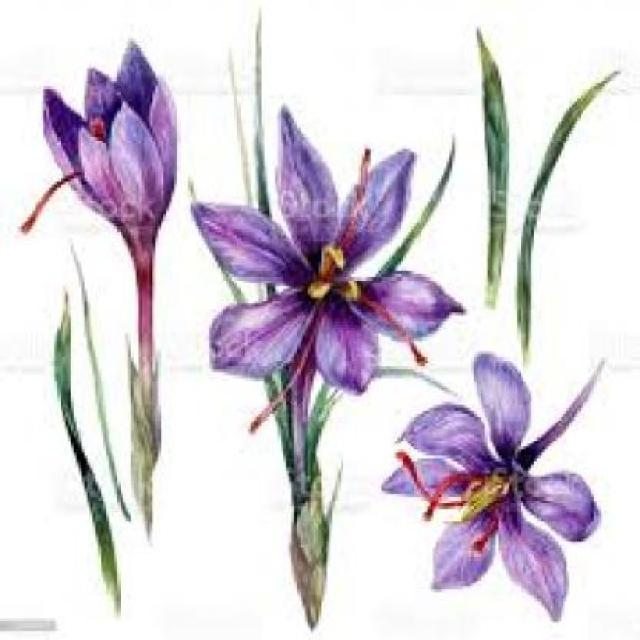saffron open: (191, 108, 462, 394), (44, 42, 178, 523), (382, 354, 604, 618)
